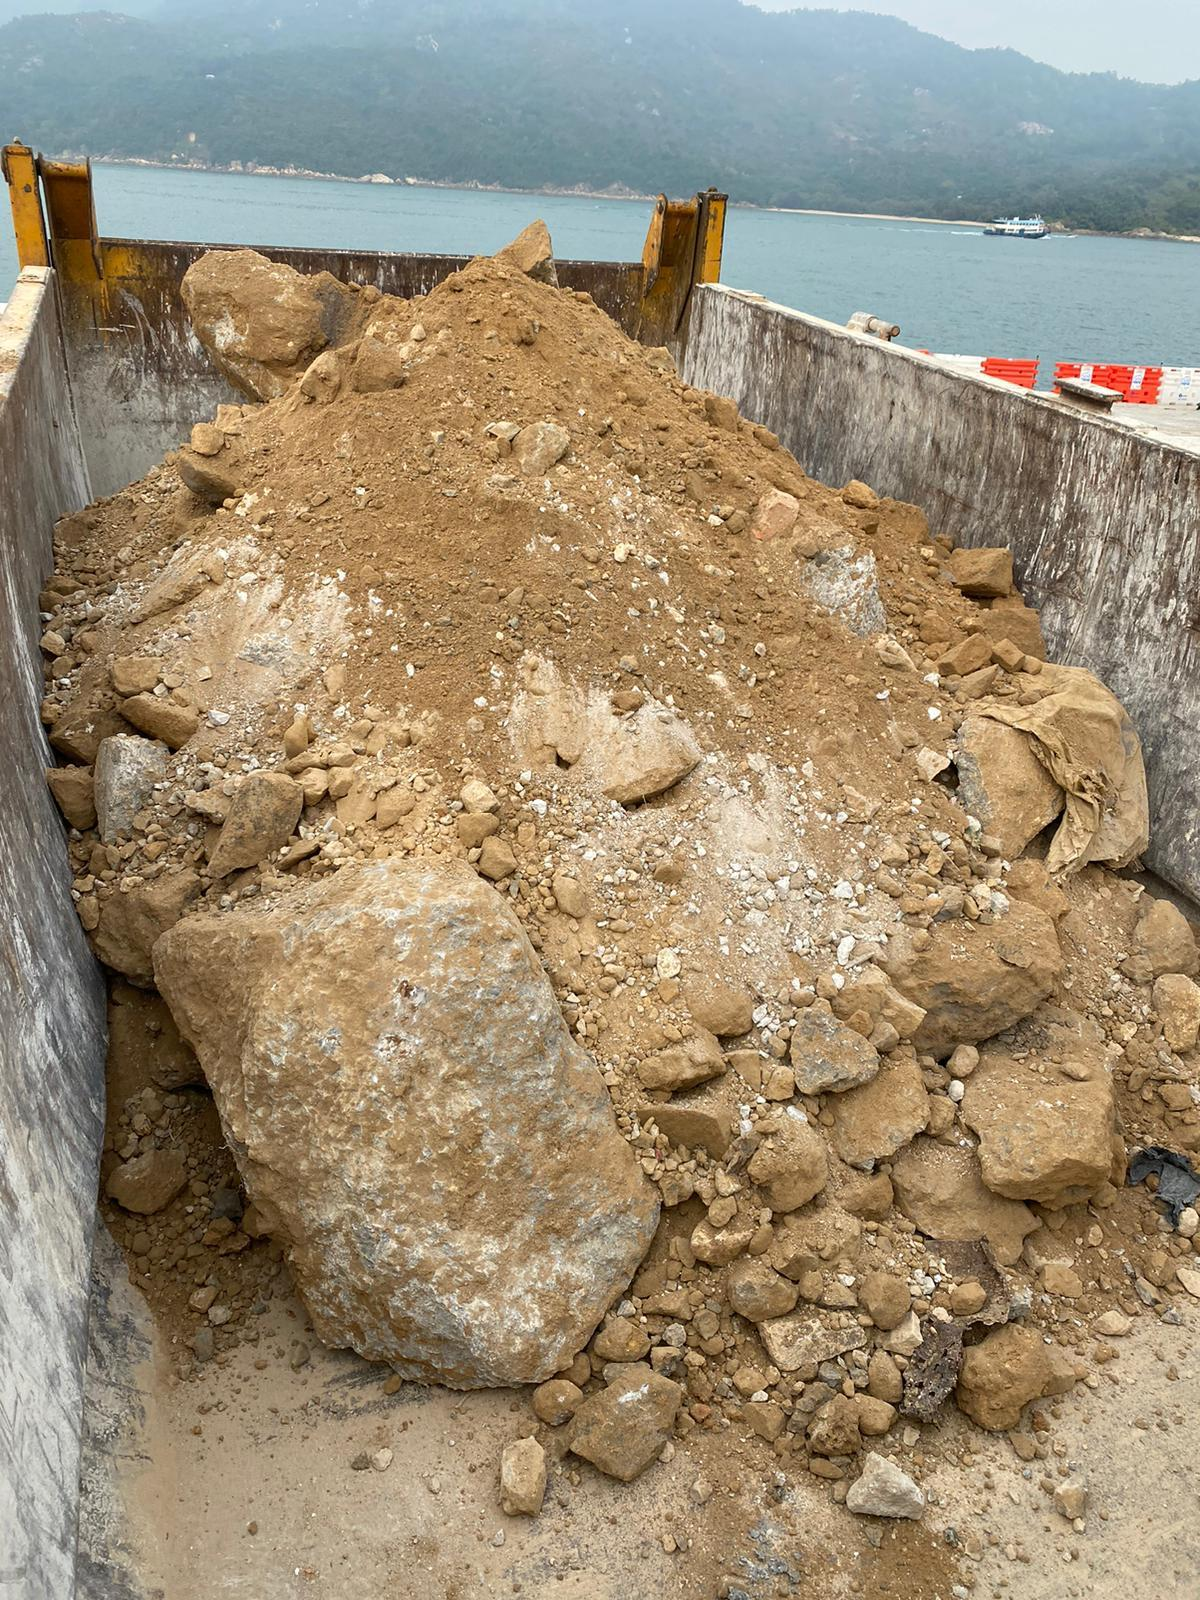dry: (68, 239, 1192, 1448)
